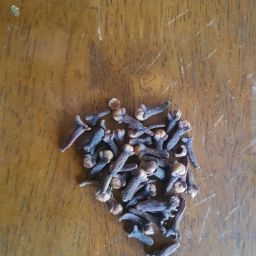Cloves: (57, 93, 203, 256)
